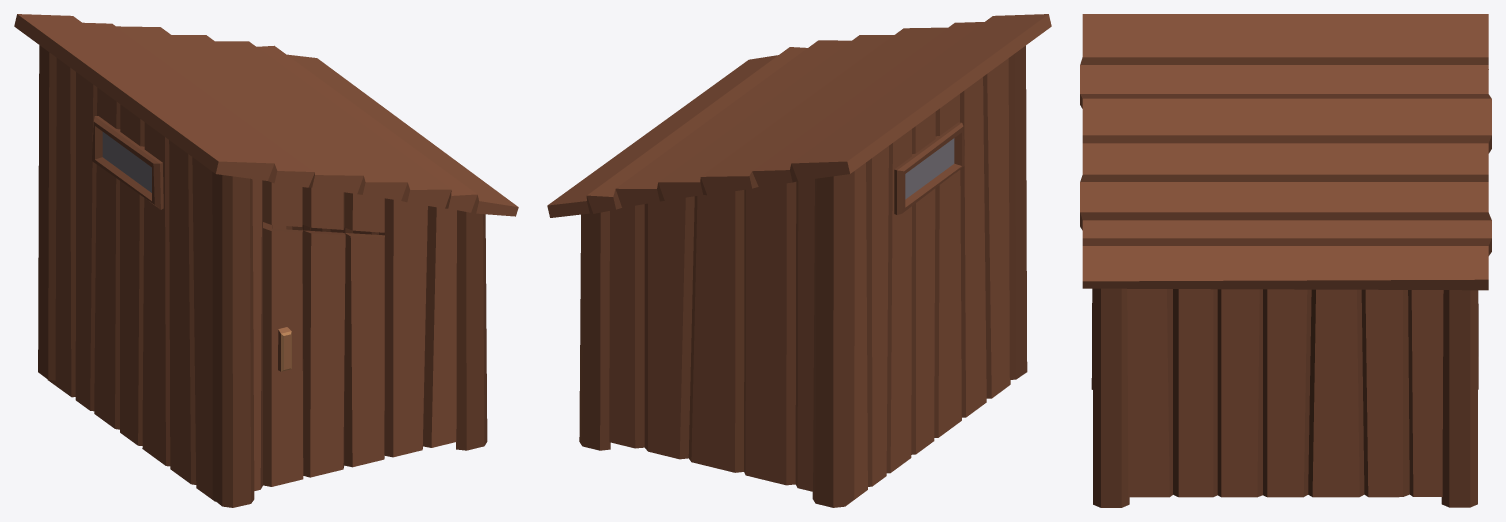
The model's file is small_barn.fbx.
The picture shows the model from 3 angles, left to right: view 1: azimuth 30°, elevation 25°; view 2: azimuth 150°, elevation 25°; view 3: azimuth 270°, elevation 25°; orthographic projection.
Parts seen in each view (by area): view 1: small_barn; view 2: small_barn; view 3: small_barn.
Boxes of the visible parts, x1,y1,x2,y2 form: small_barn: (14,14,518,507); small_barn: (547,14,1051,507); small_barn: (1080,14,1491,507).
Size of the model in its own units: 129 by 147 by 151.
